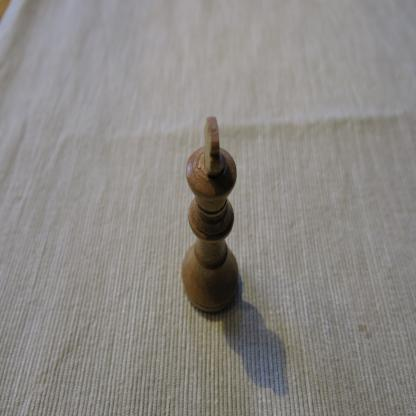white-king: (181, 115, 240, 318)
